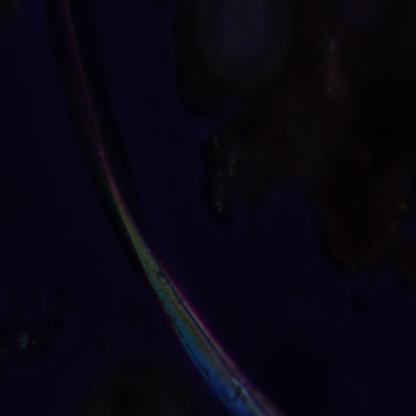Microfibre: (54, 1, 274, 413)
